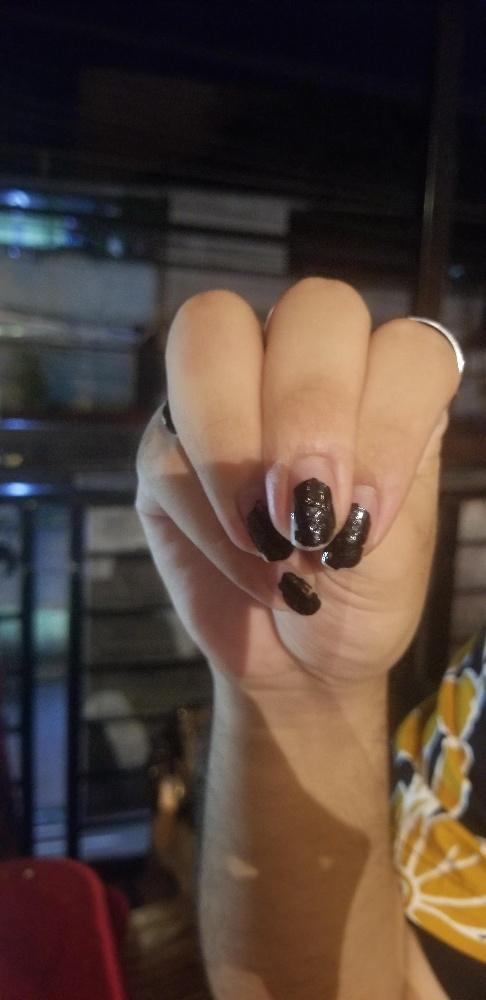m: (132, 272, 461, 690)
